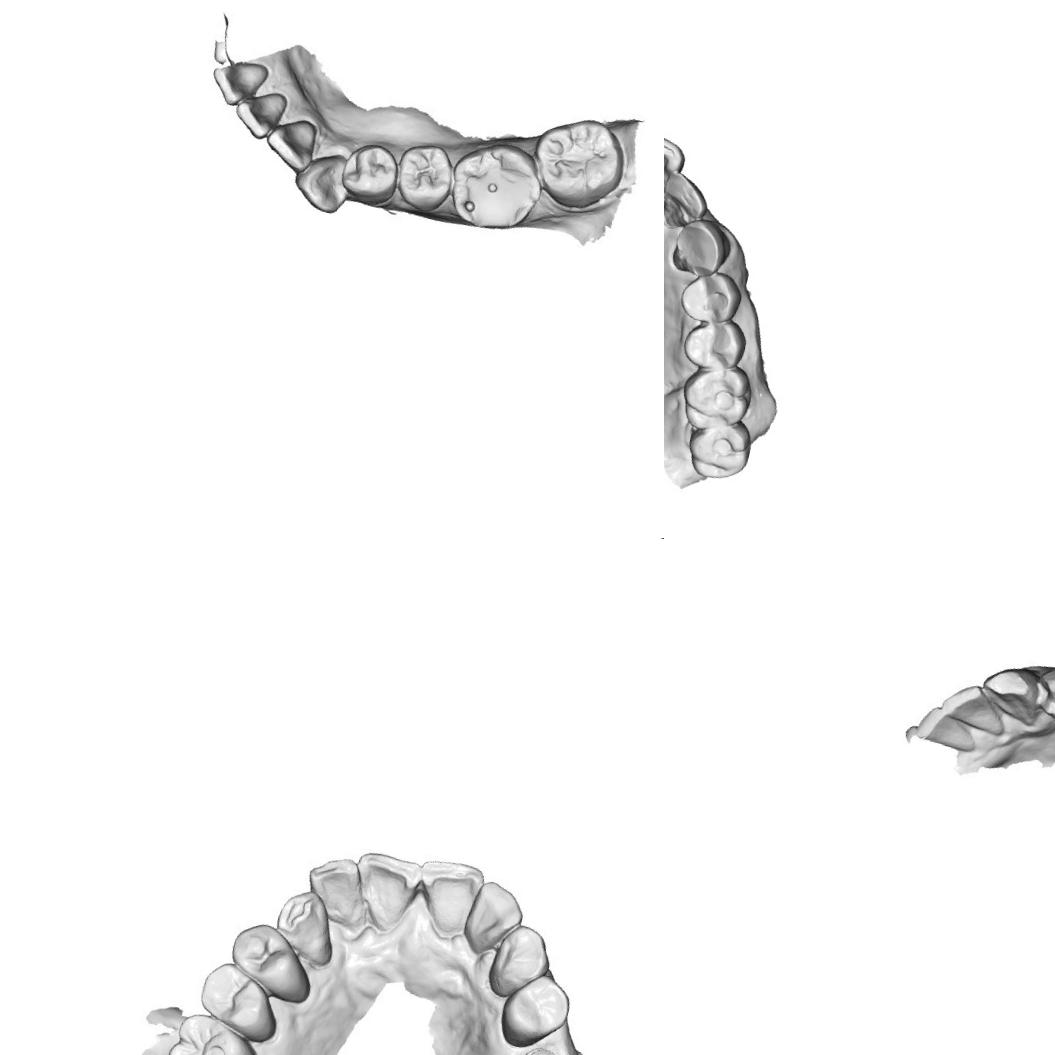canine: (266, 884, 346, 968), (481, 918, 555, 1006), (974, 657, 1052, 734), (288, 144, 358, 218), (666, 212, 735, 282)
implant_minus: (511, 1042, 568, 1055)
incisor: (409, 852, 487, 941), (346, 845, 424, 933), (456, 875, 528, 961), (299, 848, 368, 926), (907, 702, 990, 764), (934, 675, 1012, 740), (262, 110, 324, 177), (206, 52, 270, 112), (234, 80, 290, 142), (664, 169, 714, 234), (664, 124, 690, 209)
molar: (443, 134, 550, 240), (524, 111, 630, 216), (674, 355, 758, 438), (681, 413, 757, 488), (159, 1008, 266, 1055)
premolar: (223, 919, 321, 1002), (193, 958, 285, 1044), (491, 966, 578, 1055), (676, 262, 748, 330), (678, 312, 751, 378), (392, 140, 460, 210), (336, 138, 401, 206), (1031, 658, 1055, 731)
